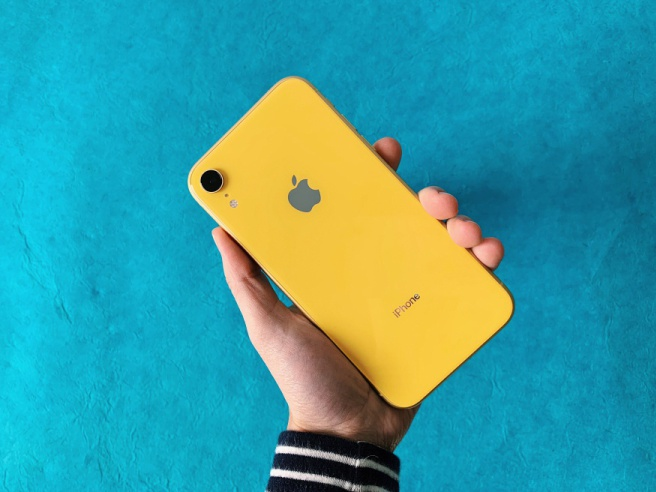apple: (266, 171, 338, 224)
